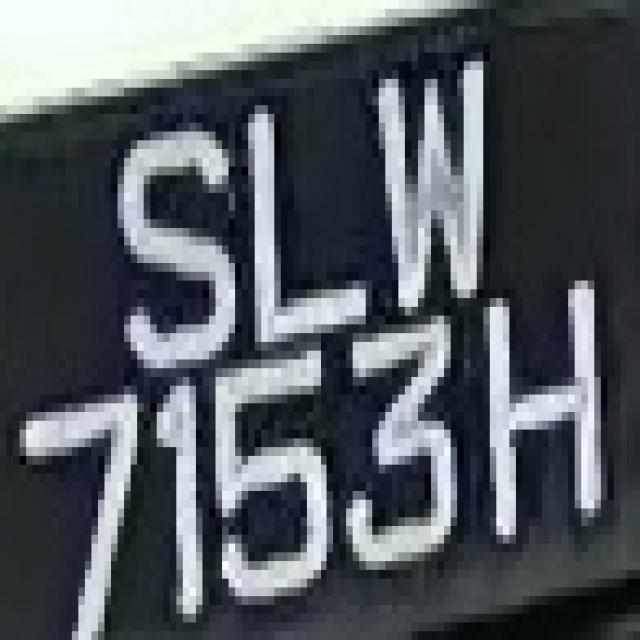1: (163, 368, 222, 614)
3: (326, 298, 476, 596)
5: (196, 368, 353, 614)
7: (20, 368, 144, 640)
H: (470, 254, 634, 561)
L: (242, 70, 398, 360)
S: (92, 105, 235, 368)
W: (340, 53, 516, 324)
